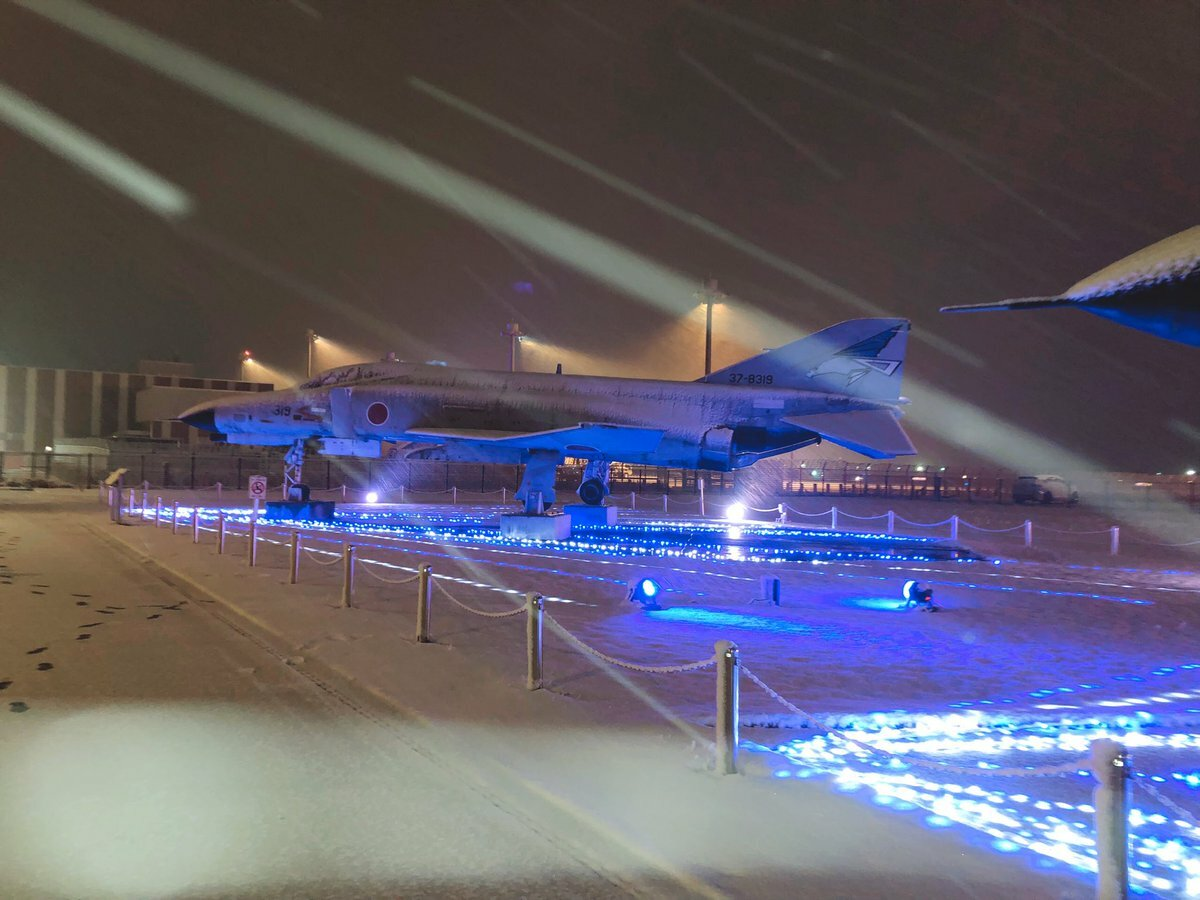F4: (157, 317, 919, 512)
